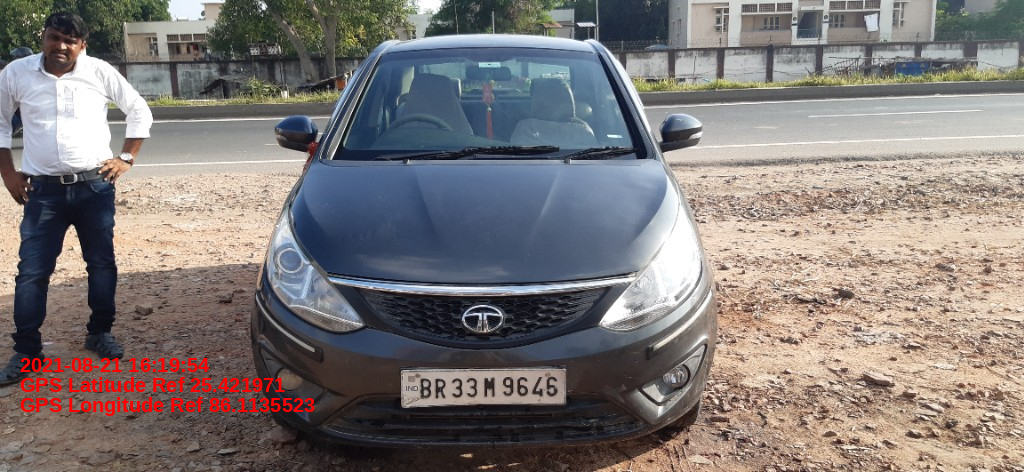Pressed: (254, 310, 283, 353)
Scratched: (694, 348, 714, 398), (619, 343, 645, 381), (656, 403, 692, 425), (604, 380, 629, 404)
